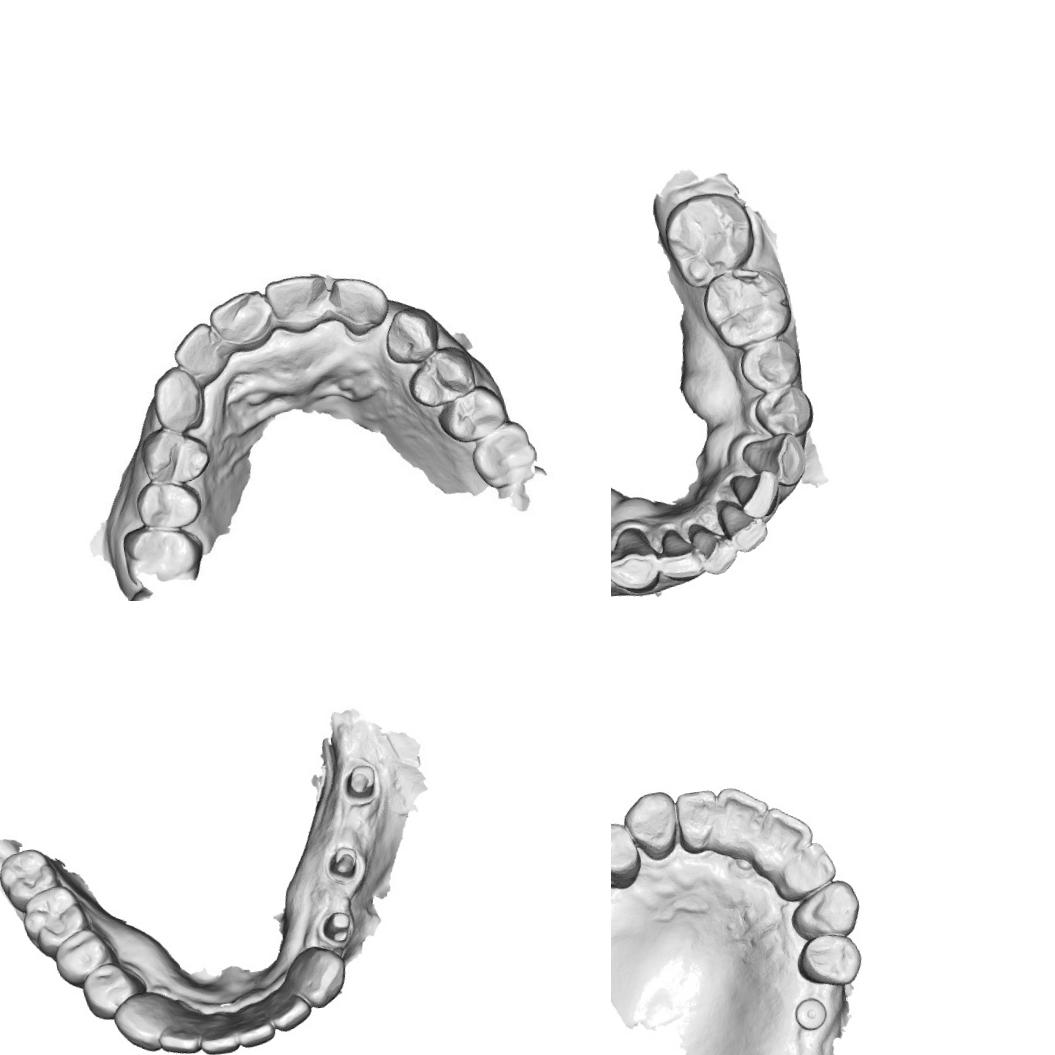abutment: (338, 754, 384, 807), (320, 840, 366, 887), (313, 907, 358, 950)
canine: (618, 788, 684, 866), (786, 877, 864, 942), (284, 942, 352, 1012), (148, 360, 208, 434), (108, 988, 174, 1055), (741, 428, 810, 491), (375, 305, 440, 368), (611, 524, 664, 597)
implant: (790, 994, 832, 1034)
incisor: (708, 780, 776, 862), (748, 800, 818, 877), (266, 273, 338, 336), (771, 837, 840, 901), (210, 289, 280, 352), (327, 270, 390, 336), (670, 786, 727, 857), (725, 464, 783, 524), (686, 518, 742, 580), (714, 496, 770, 556), (171, 322, 224, 383), (656, 526, 706, 586), (262, 990, 314, 1034), (234, 1011, 277, 1049), (157, 1020, 203, 1055), (197, 1020, 240, 1055)
molar: (658, 185, 764, 290), (700, 258, 797, 352), (120, 517, 212, 597), (466, 416, 542, 495), (18, 882, 93, 961), (0, 845, 61, 915)
premolar: (404, 340, 480, 412), (137, 424, 212, 493), (439, 380, 510, 448), (791, 928, 866, 992), (50, 924, 120, 992), (750, 379, 817, 442), (736, 334, 804, 396), (79, 959, 143, 1023), (134, 474, 204, 532), (611, 816, 643, 888)
